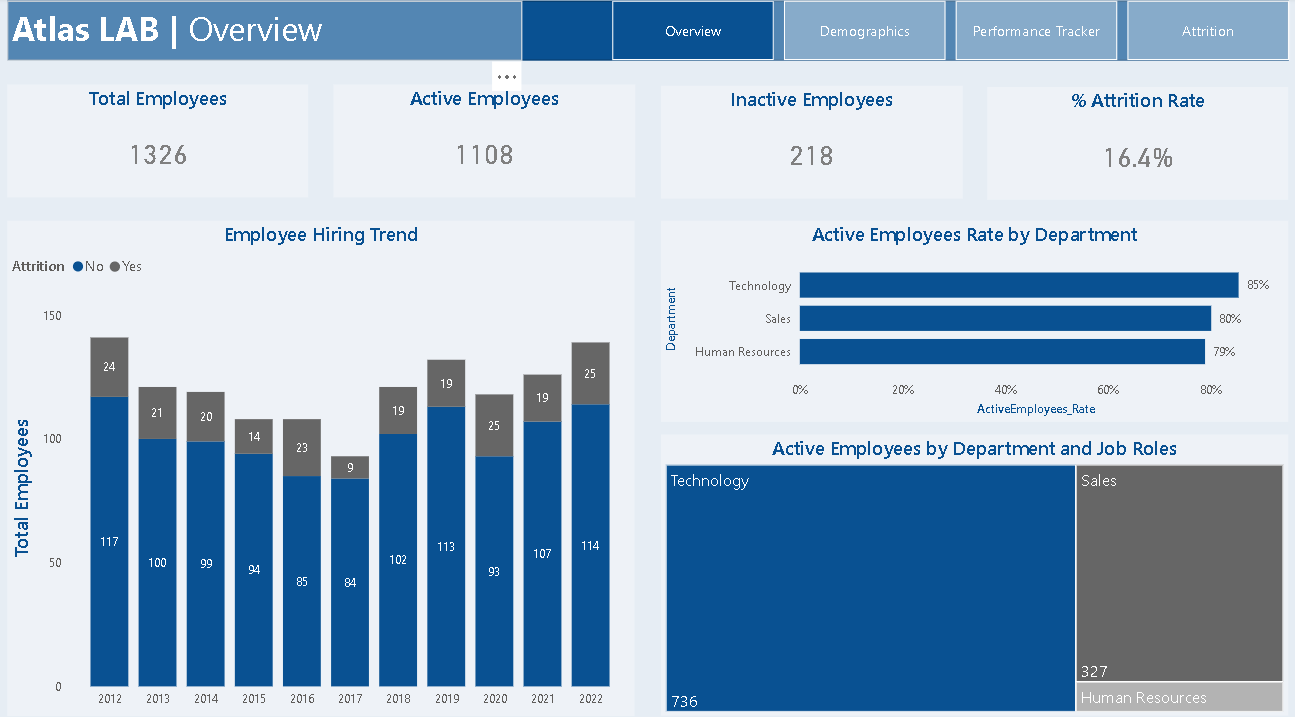

This screenshot's page, from the dashboard's own definition file:
{"tool":"powerbi","page":{"name":"Overview","canvas":[1280,720],"ordinal":0},"visuals":[{"type":"card","title":"Total Employees","fields":{"Values":["_Measures.TotalEmployees"]},"box":[11,85.7,294.7,110],"z":0},{"type":"card","title":"Active Employees","fields":{"Values":["_Measures.ActiveEmployees"]},"box":[330.4,85.7,295,110],"z":1000},{"type":"card","title":"Inactive Employees","fields":{"Values":["_Measures.InactiveEmployees"]},"box":[650,86.8,295,110],"z":2000},{"type":"card","title":"% Attrition Rate","fields":{"Values":["_Measures.% Attrition Rate"]},"box":[969.7,88,294.7,110],"z":3000},{"type":"columnChart","title":"Employee Hiring Trend","fields":{"Category":["DimDate.Date.Variation.Date Hierarchy.Year","DimDate.Date.Variation.Date Hierarchy.Quarter","DimDate.Date.Variation.Date Hierarchy.Month","DimDate.Date.Variation.Date Hierarchy.Day"],"Y":["_Measures.TotalEmployeesDate"],"Series":["DimEmployee.Attrition"]},"box":[11,218.9,613.9,485.5],"z":4000},{"type":"clusteredBarChart","title":"Active Employees by Department","fields":{"Category":["DimEmployee.Department"],"Y":["_Measures.ActiveEmployees"]},"box":[650.5,218.9,613.9,196.9],"z":5000},{"type":"treemap","title":"Active Employees by Department and Job Roles ","fields":{"Group":["DimEmployee.Department","DimEmployee.JobRole"],"Values":["_Measures.ActiveEmployees"]},"box":[650.5,428,613.9,276.4],"z":6000},{"type":"shape","box":[11.5,3.7,1253.4,58.7],"z":7000},{"type":"textbox","box":[11.2,3.8,504,58.8],"z":8000},{"type":"pageNavigator","box":[602.4,4,663,58],"z":9000}]}

Visuals, with their boxes in screenshot pixels (x1, y1, x2, y2), scaled from the page's 1280x720 canvas onto the 1295x717 screenshot:
"Total Employees" card: <region>11, 85, 309, 195</region>
"Active Employees" card: <region>334, 85, 633, 195</region>
"Inactive Employees" card: <region>658, 86, 956, 196</region>
"% Attrition Rate" card: <region>981, 88, 1279, 197</region>
"Employee Hiring Trend" columnChart: <region>11, 218, 632, 701</region>
"Active Employees by Department" clusteredBarChart: <region>658, 218, 1279, 414</region>
"Active Employees by Department and Job Roles " treemap: <region>658, 426, 1279, 701</region>
shape: <region>12, 4, 1280, 62</region>
textbox: <region>11, 4, 521, 62</region>
pageNavigator: <region>609, 4, 1280, 62</region>
